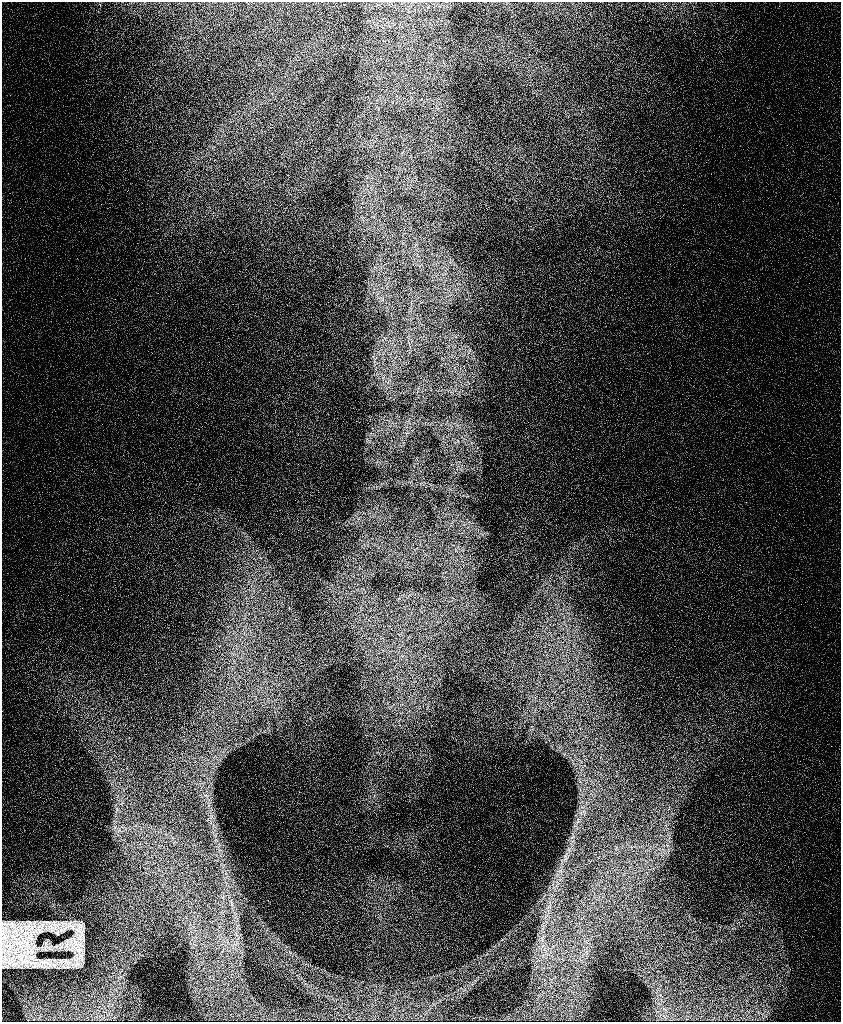lumbar scoliosis: (321, 50, 496, 599)
